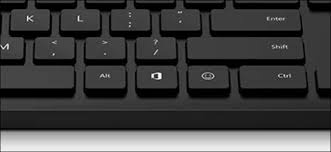keyboard: (3, 0, 331, 126)
